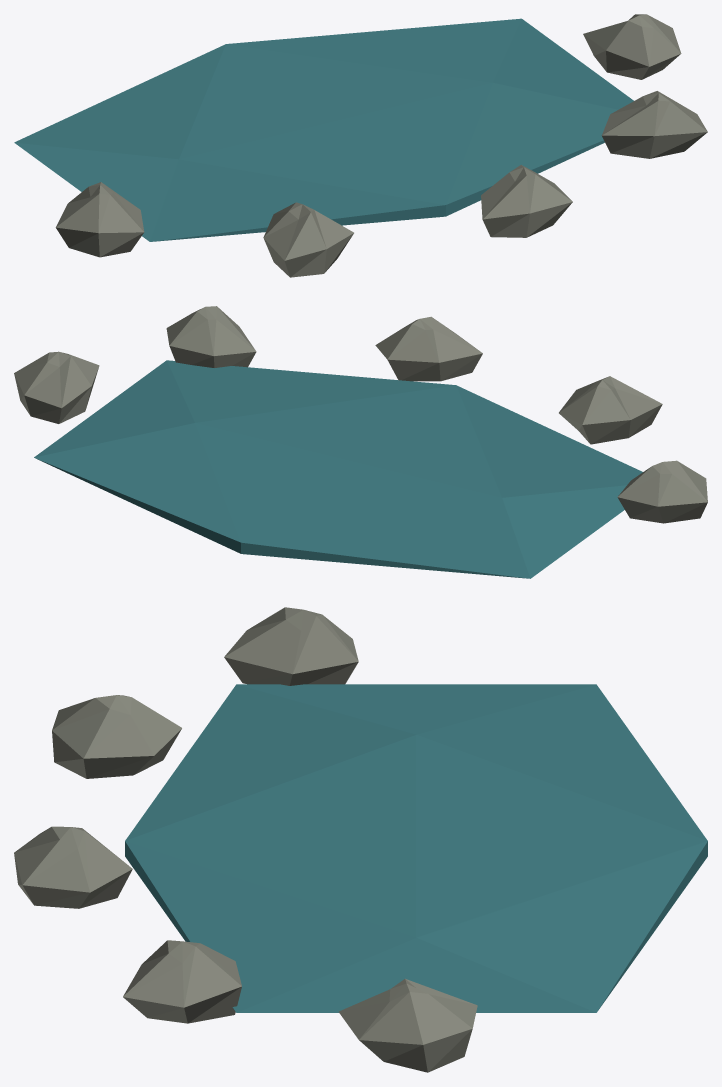
The model's file is small_pond-far.glb.
3 views of the same model, one above another, from view 1: azimuth 30°, elevation 25°; view 2: azimuth 150°, elevation 25°; view 3: azimuth 270°, elevation 25° (orthographic). The views are drawn at different scales.
Visible parts, largest first — view 1: world-scenery/small_pond-far; view 2: world-scenery/small_pond-far; view 3: world-scenery/small_pond-far.
Boxes of the visible parts, x1,y1,x2,y2 form: world-scenery/small_pond-far: (14, 14, 707, 277); world-scenery/small_pond-far: (14, 306, 707, 578); world-scenery/small_pond-far: (14, 607, 707, 1072).
Size of the model in its own units: 3.78 by 0.2935 by 2.58.
